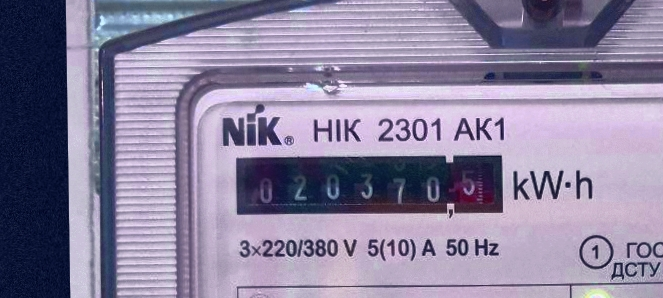0: (423, 174, 442, 204), (256, 174, 274, 204), (324, 171, 340, 199)
2: (290, 172, 309, 203)
3: (357, 170, 374, 200)
5: (459, 166, 478, 197)
7: (390, 175, 406, 205)
screen: (228, 147, 511, 226)
